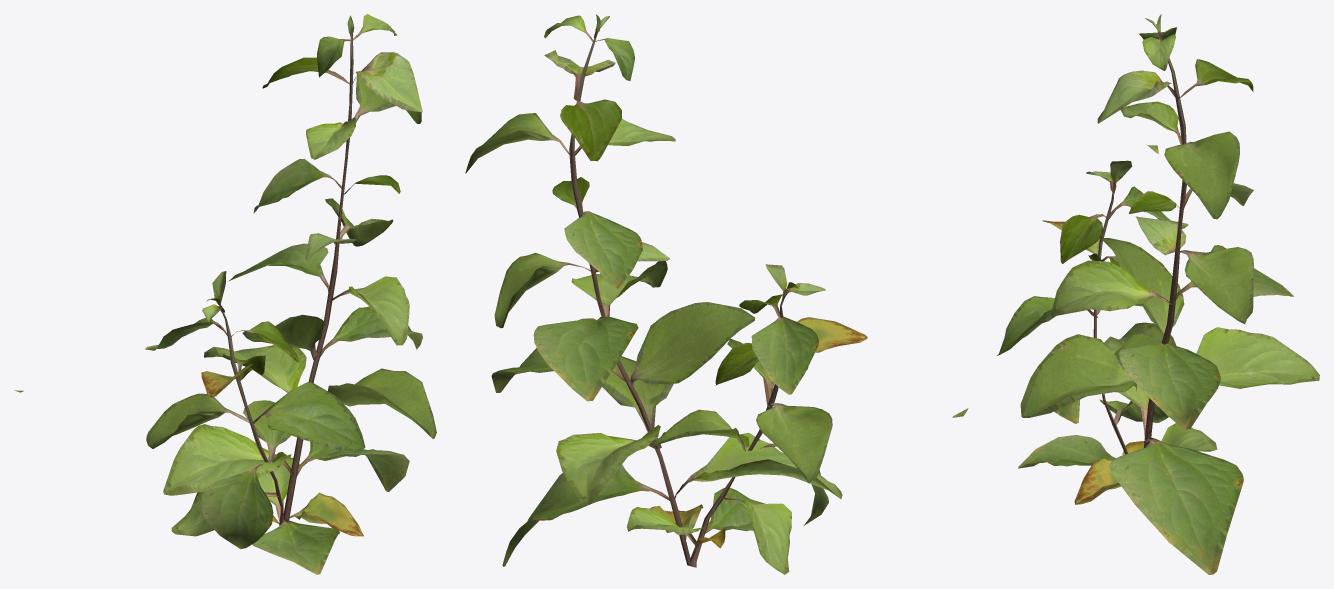
The model's file is flowering_shrub.glb.
The picture shows the model from 3 angles, left to right: view 1: azimuth 30°, elevation 25°; view 2: azimuth 150°, elevation 25°; view 3: azimuth 270°, elevation 25°; orthographic projection. The views are drawn at different scales.
Visible parts, largest first — view 1: shrub_01_a; view 2: shrub_01_a; view 3: shrub_01_a.
Part boxes in pixels (x1,y1,x2,y2): shrub_01_a: (14,14,436,574); shrub_01_a: (465,14,968,574); shrub_01_a: (997,14,1319,574).
Size of the model in its own units: 0.3315 by 0.3721 by 0.2053.
Materials: 1 (1 with a texture image).
